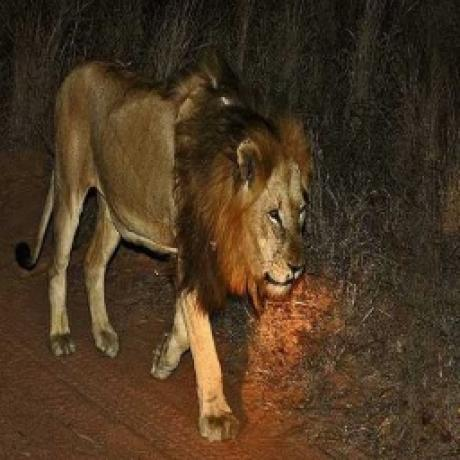Lion: (18, 55, 314, 443)
